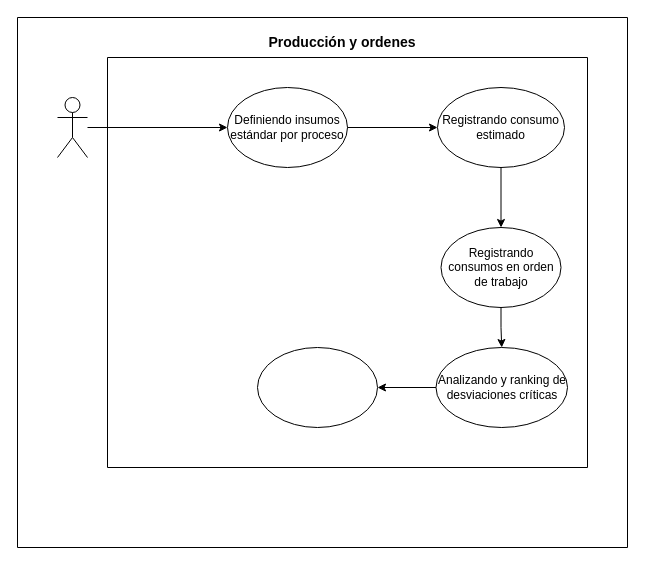
The diagram is 645 pixels wide and 565 high, and some of its shapes have lost their labels. The centre of each missing label's shape, as x and y in pixels:
Generando reporte comparativo (Estimado vs Real): point 317,387
JOP: point 72,127
